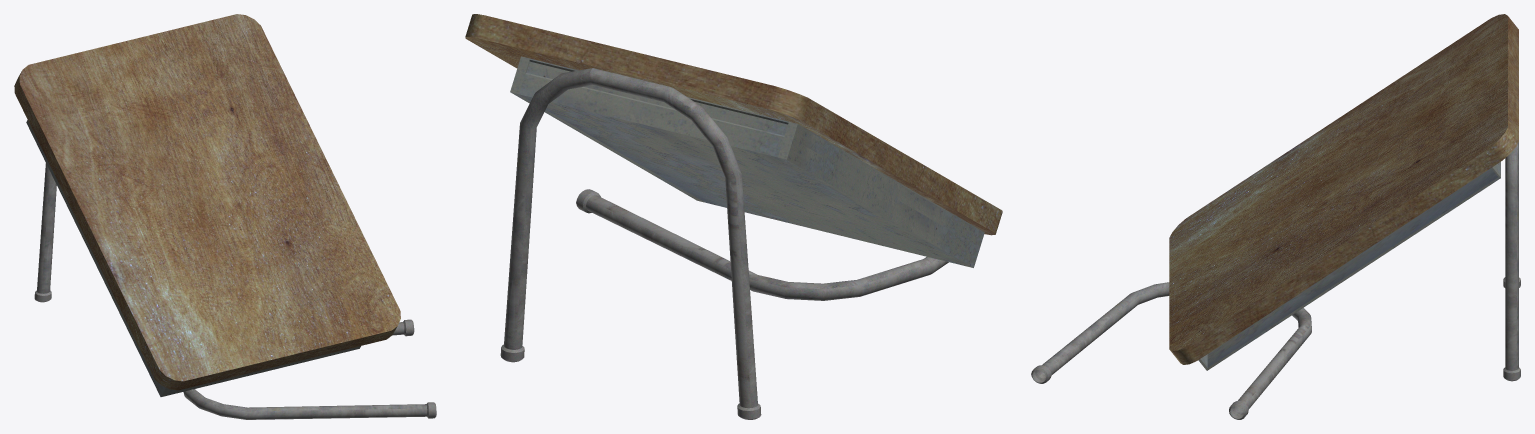
Rendered from Desk1_broken.fbx.
3 views of the same model, side by side, from view 1: azimuth 30°, elevation 25°; view 2: azimuth 150°, elevation 25°; view 3: azimuth 270°, elevation 25° (orthographic). The views are drawn at different scales.
Visible parts, largest first — view 1: polySurface14; view 2: polySurface14; view 3: polySurface14.
Boxes of the visible parts, box(x1,y1,x2,y2) form: polySurface14: box(14, 14, 436, 419); polySurface14: box(465, 14, 1002, 419); polySurface14: box(1031, 14, 1520, 419).
Size of the model in its own units: 22.02 by 18.29 by 30.57.
